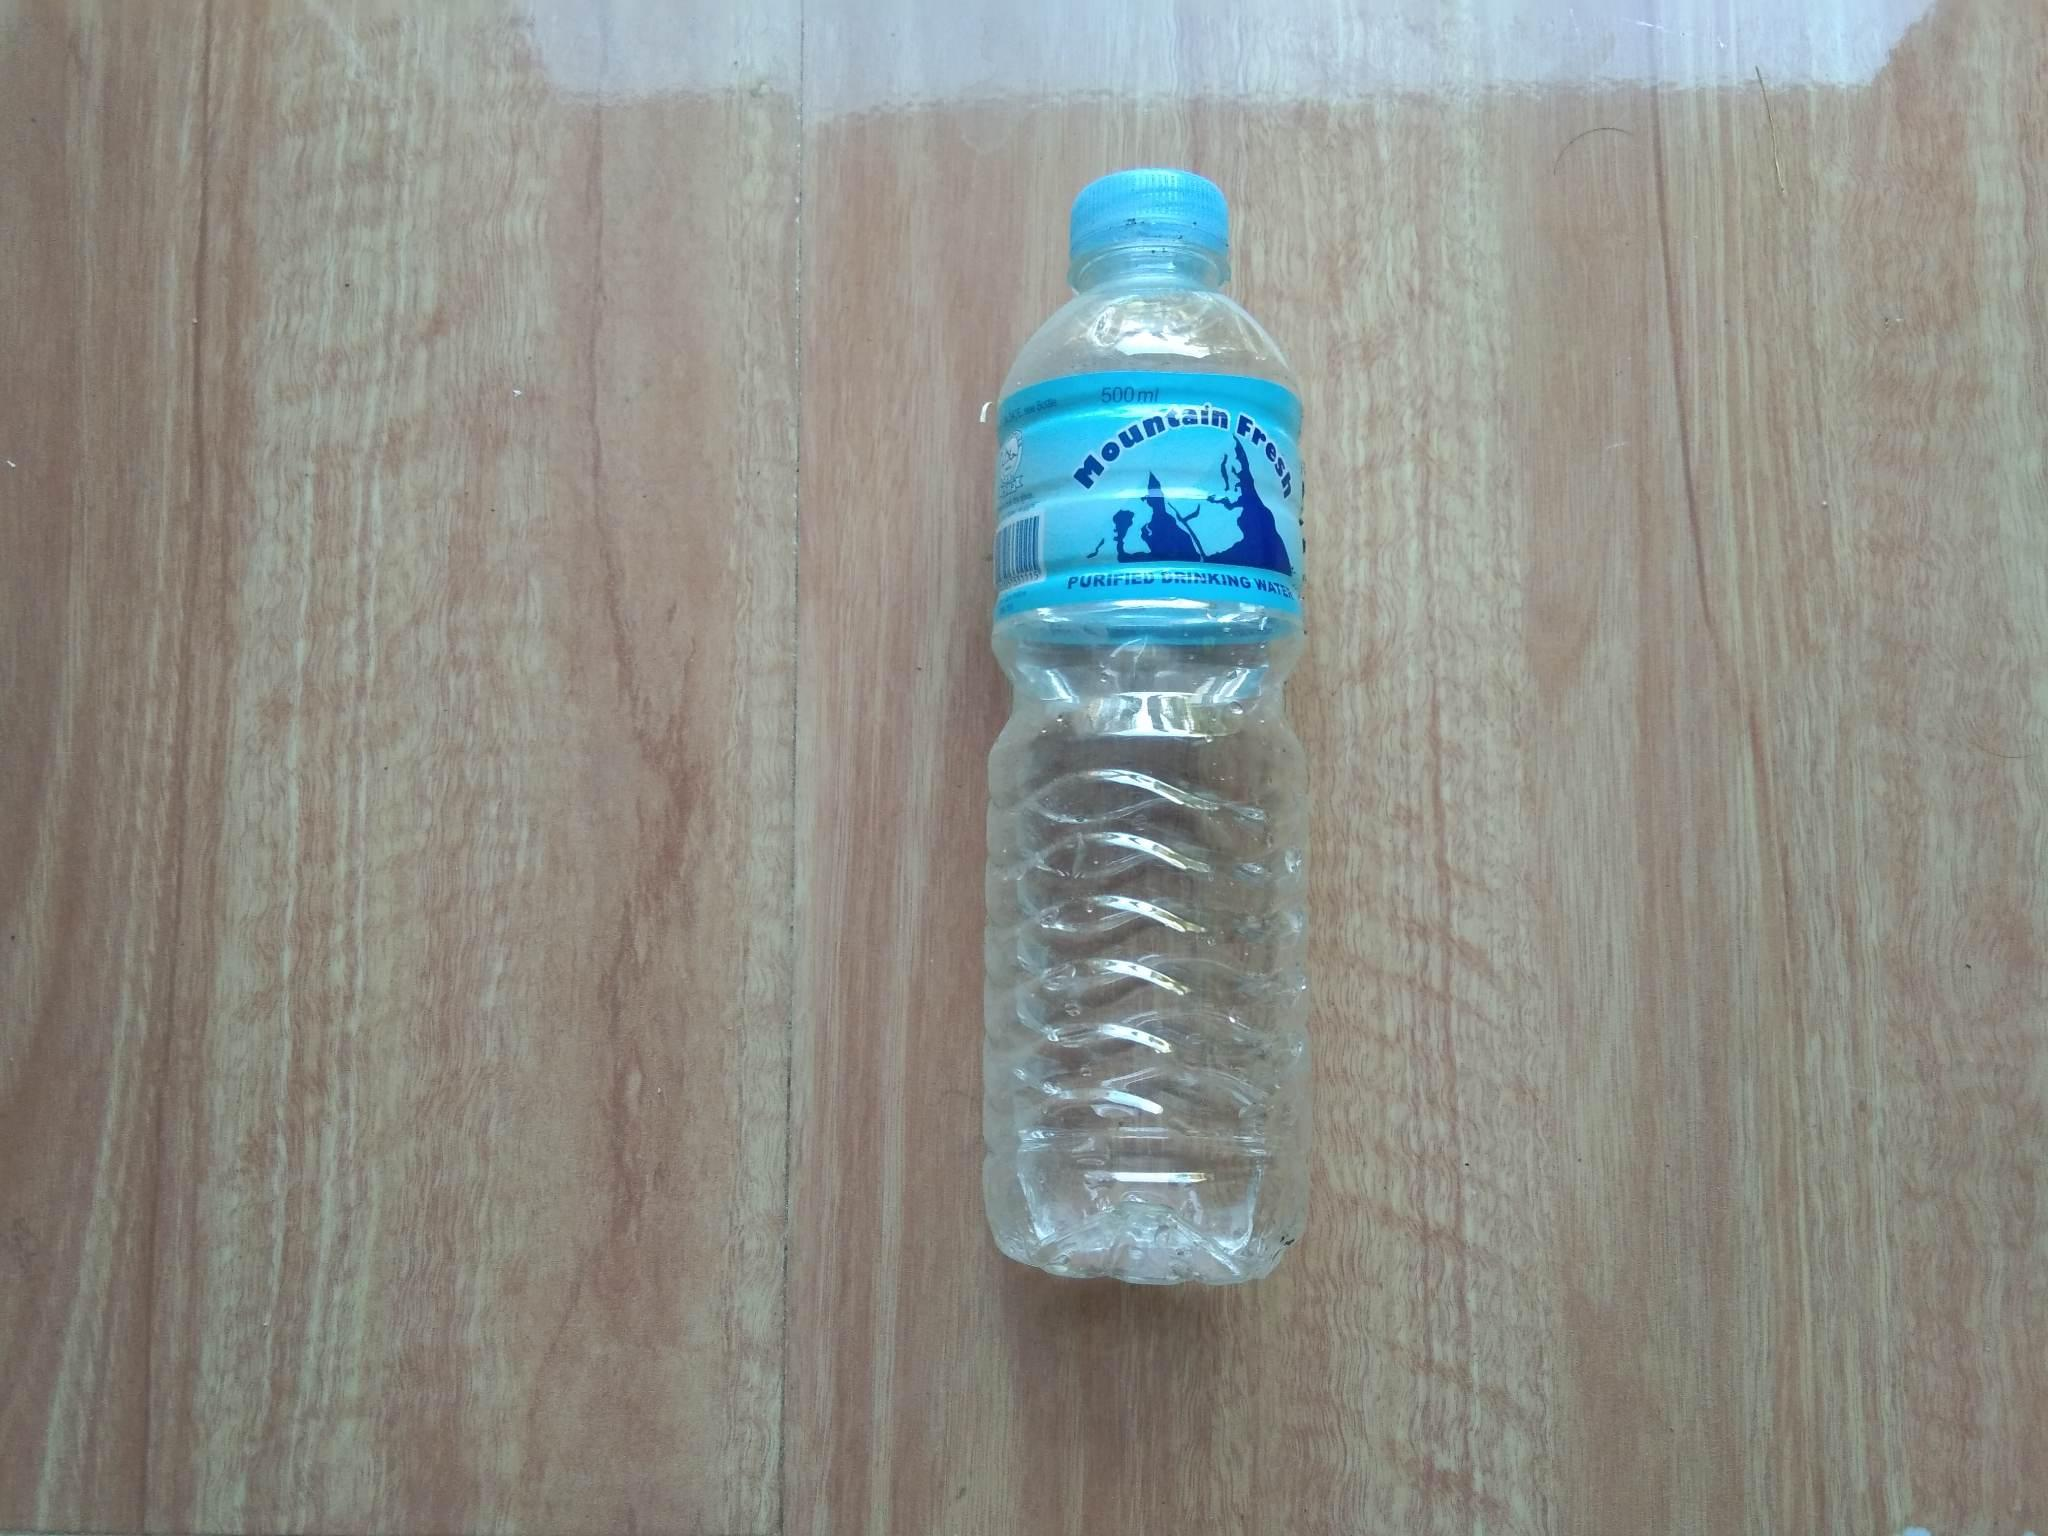plastic: (861, 123, 1388, 1320)
